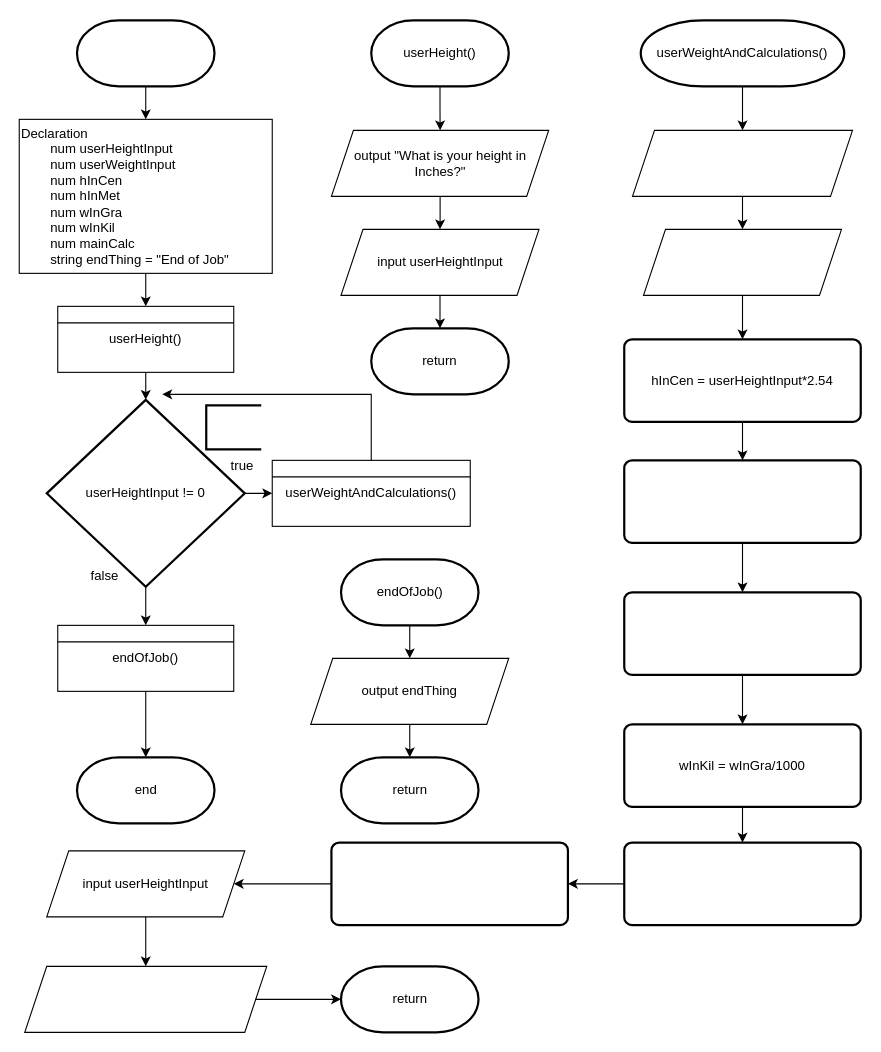
Some shapes in this 881 by 1052 pixel diagram are drawn without their labels. The centre of each missing label's shape, as x and y in pixels:
// != means "not equal": the point at 233,427
hInMet = hInCen/100: the point at 742,501
input userWeightInput: the point at 742,261
mainCalc = wInKil/(hInMet*hInMet): the point at 742,883
output "What is you weight in pounds?": the point at 742,162
output "What is your next height in Inches?": the point at 145,998
output "Your BMI Calculation is " mainCalc: the point at 449,883
start: the point at 145,53
wInGra = userWeightInput*453.59: the point at 742,633
